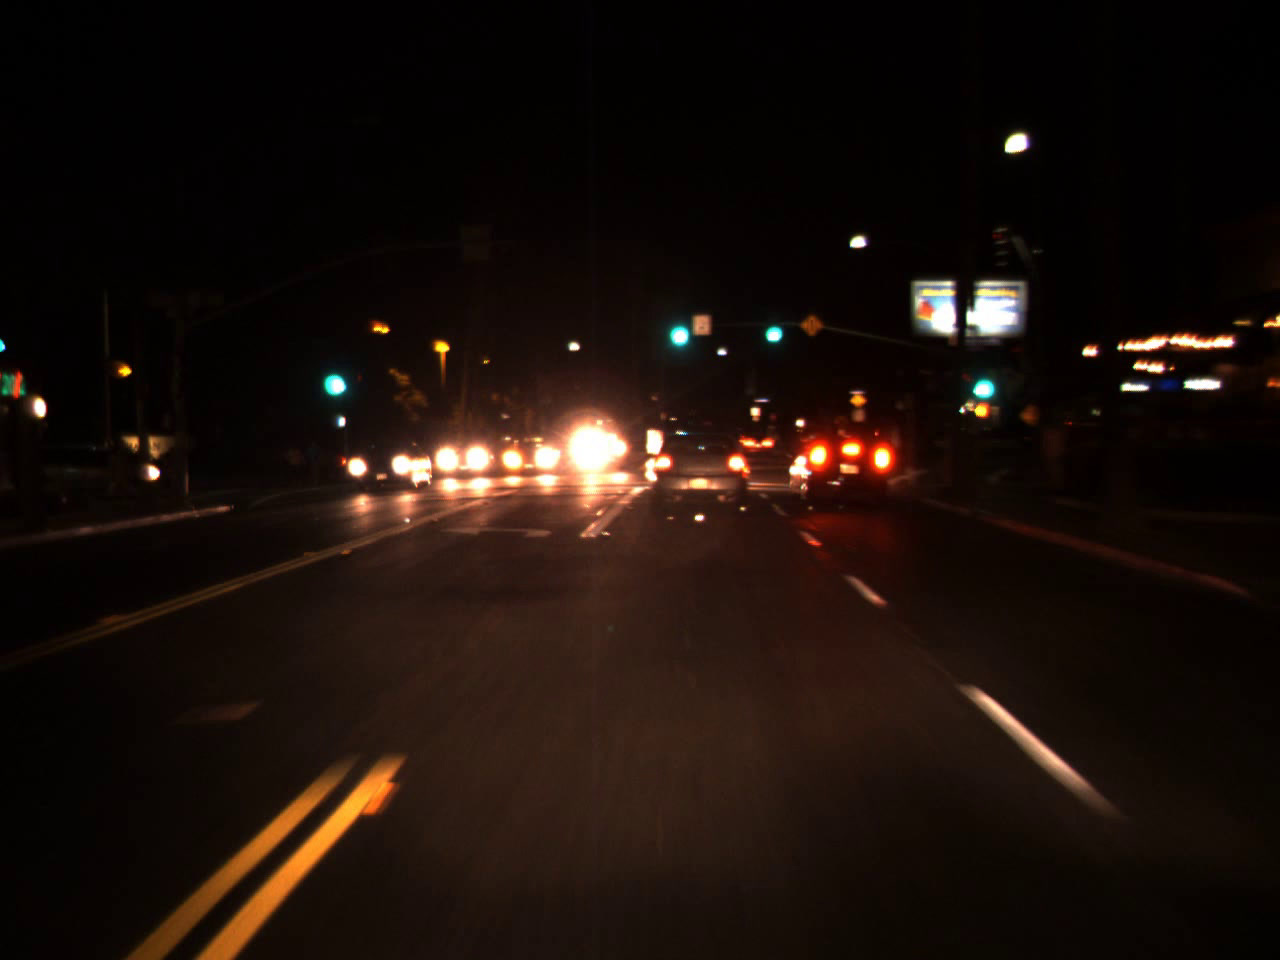go: (964, 353, 1000, 407), (662, 300, 692, 354), (318, 347, 346, 404), (758, 311, 786, 344)
